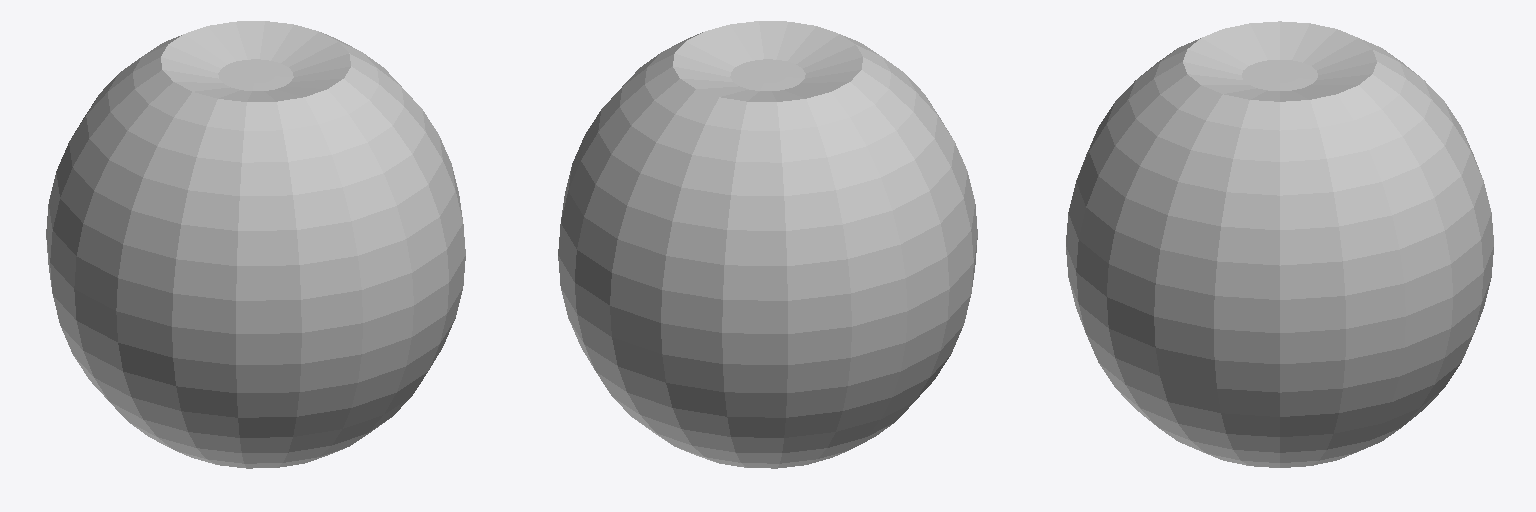
The model's file is peach.obj.
The picture shows the model from 3 angles: view 1: azimuth 30°, elevation 25°; view 2: azimuth 150°, elevation 25°; view 3: azimuth 270°, elevation 25°; orthographic projection.
Parts seen in each view (by area): view 1: pSphere1; view 2: pSphere1; view 3: pSphere1.
Boxes of the visible parts, x1=… form: pSphere1: x1=46, y1=21, x2=465, y2=468; pSphere1: x1=558, y1=21, x2=977, y2=468; pSphere1: x1=1066, y1=21, x2=1493, y2=467.
Bounding box in the file's own units: 0.4223 × 0.4317 × 0.4314.